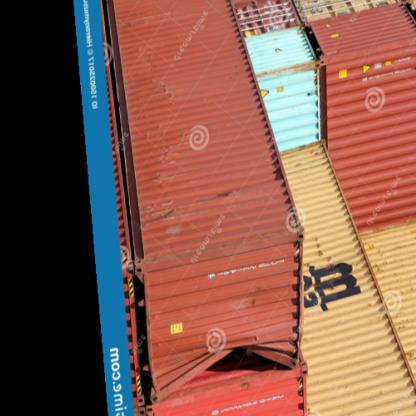Damage: (178, 342, 298, 385)
